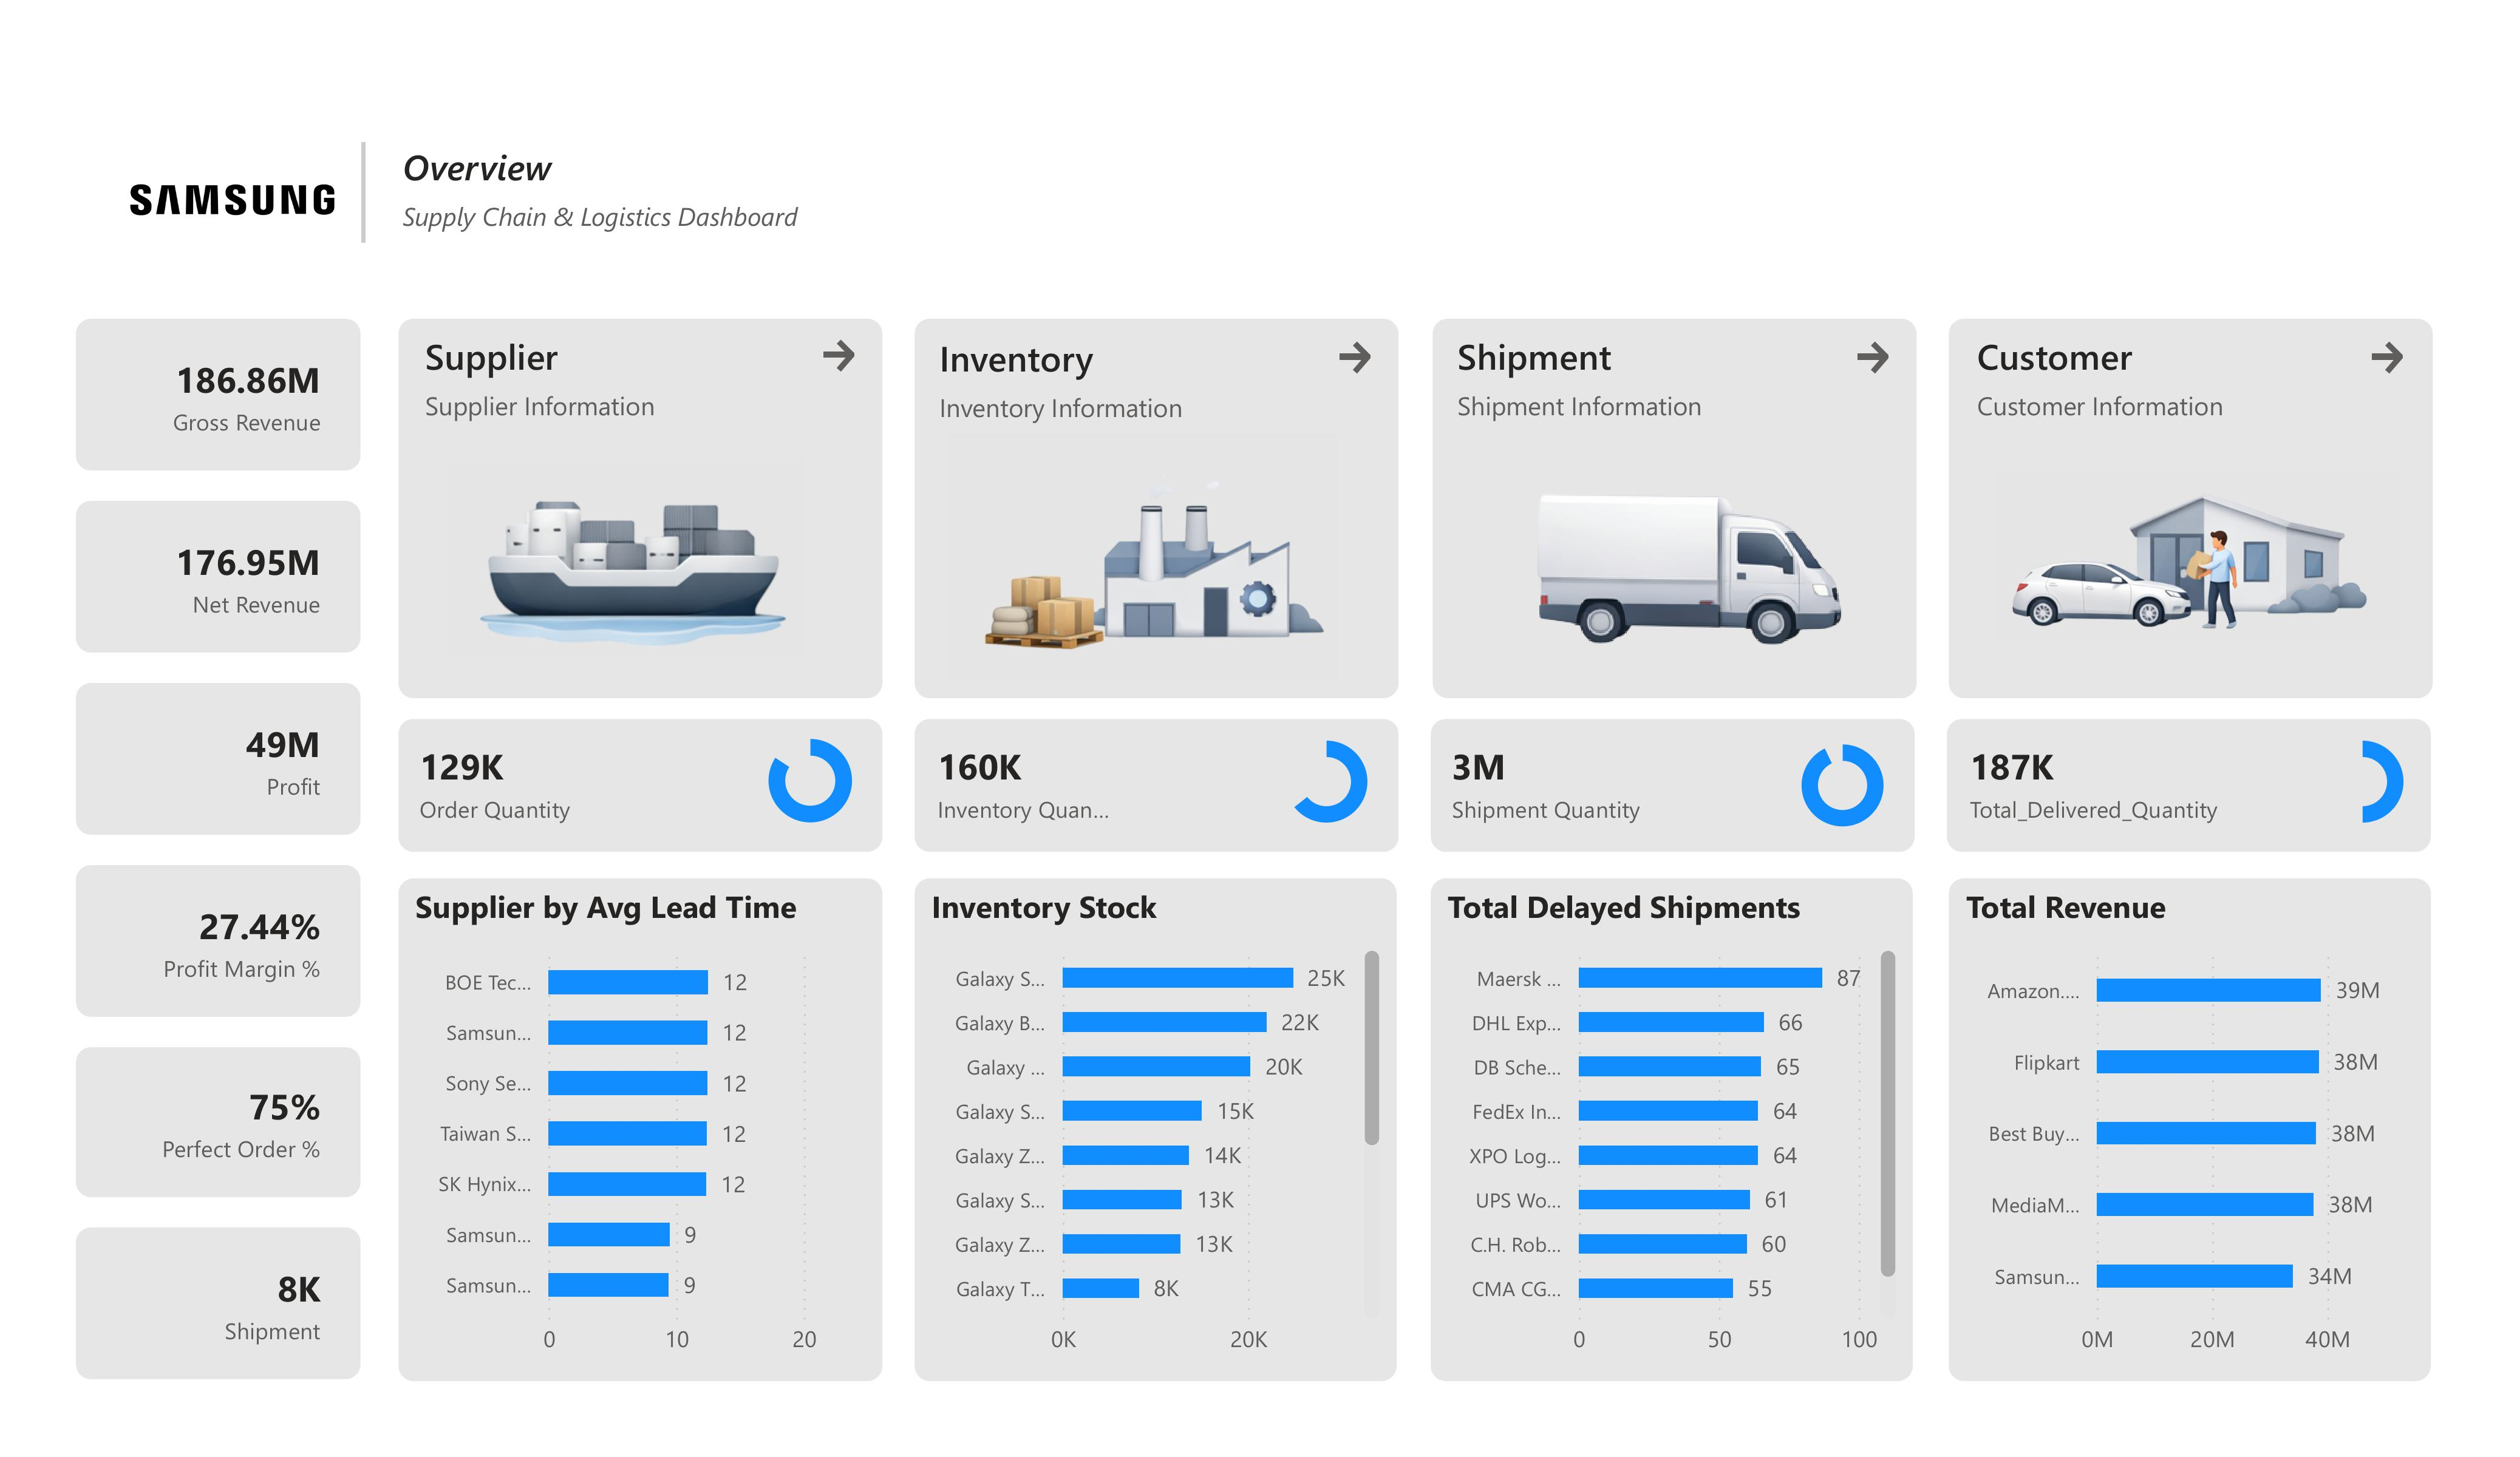

What the dashboard file says about the page in this screenshot:
{"tool":"powerbi","page":{"name":"Overview","canvas":[1280,720],"ordinal":1},"visuals":[{"type":"shape","box":[185.9,143.6,255,200],"z":0},{"type":"shape","box":[458.3,143.6,255,200],"z":1000},{"type":"shape","box":[730.7,143.6,255,200],"z":2000},{"type":"shape","box":[1003.1,143.6,255,200],"z":3000},{"type":"image","box":[211.2,175.2,188.9,187.8],"z":4000},{"type":"image","box":[474.8,158.5,206.7,221.1],"z":5000},{"type":"image","box":[771.4,175.7,184.4,186.7],"z":6000},{"type":"image","box":[1028.1,199.1,213.3,140],"z":7000},{"type":"actionButton","box":[404.8,151.2,30,25],"z":8000},{"type":"actionButton","box":[677.3,152,30,25],"z":9000},{"type":"actionButton","box":[949.9,152.1,30,25],"z":10000},{"type":"actionButton","box":[1221.3,152.1,30,25],"z":11000},{"type":"textbox","title":"Supplier","box":[195.4,151.4,188.7,52.5],"z":12000},{"type":"textbox","title":"Inventory","box":[466.1,152,188.3,52.5],"z":13000},{"type":"textbox","title":"Shipment","box":[738.6,151.1,188.3,52.5],"z":14000},{"type":"textbox","title":"Customer","box":[1012.8,151.4,188.7,52.5],"z":15000},{"type":"textbox","title":"Overview","box":[183.3,51,228.6,52.5],"z":16000},{"type":"shape","box":[152.2,51,31.1,52.5],"z":17000},{"type":"image","box":[35.5,51,120,60],"z":18000},{"type":"cardVisual","fields":{"Data":["MeasuresTable.Total_Revenue"]},"box":[15.7,239.9,150,80],"z":19000},{"type":"cardVisual","fields":{"Data":["Sum(fact_sales.profit)"]},"box":[15.7,335.9,150,80],"z":20000},{"type":"cardVisual","fields":{"Data":["MeasuresTable.Profit Margin %"]},"box":[15.8,431.9,149.8,79.8],"z":21000},{"type":"cardVisual","fields":{"Data":["MeasuresTable.Perfect Order %"]},"box":[15.8,527.7,149.8,79.8],"z":22000},{"type":"cardVisual","fields":{"Data":["MeasuresTable.Total Shipment"]},"box":[15.8,623.5,149.8,79.8],"z":23000},{"type":"cardVisual","fields":{"Data":["Sum(fact_sales.gross_revenue)"]},"box":[15.9,143.9,150,80],"z":24000},{"type":"shape","box":[185.9,354.8,255,70],"z":25000},{"type":"cardVisual","fields":{"Data":["MeasuresTable.Order_Quantity"]},"box":[168,347.7,150,80],"z":26000},{"type":"shape","box":[458.4,354.8,255,70],"z":27000},{"type":"cardVisual","fields":{"Data":["MeasuresTable.Inventory Value"]},"box":[441,347.7,150,80],"z":28000},{"type":"shape","box":[730,354.8,255,70],"z":29000},{"type":"cardVisual","fields":{"Data":["MeasuresTable.Total_Shipment_Quantity"]},"box":[712,347.7,211.5,80],"z":30000},{"type":"shape","box":[1001.9,354.8,255,70],"z":31000},{"type":"cardVisual","fields":{"Data":["MeasuresTable.Total_Delivered_Quantity"]},"box":[984.5,347.7,211,80],"z":32000},{"type":"barChart","title":"Supplier by Avg Lead Time","fields":{"Y":["MeasuresTable.Avg Lead Time"],"Category":["dim_supplier.supplier_name"]},"box":[186.3,439.1,255,265],"z":33000},{"type":"barChart","title":"Inventory Stock","fields":{"Y":["MeasuresTable.Inventory Value"],"Category":["dim_product.product_name"]},"box":[458.3,439.1,254,265],"z":34000},{"type":"barChart","title":"Total Delayed Shipments","fields":{"Y":["MeasuresTable.Total_Detaly"],"Category":["fact_shipment.carrier"]},"box":[730.3,439.1,254,265],"z":35000},{"type":"barChart","title":"Total Revenue","fields":{"Y":["Sum(fact_sales.gross_revenue)"],"Category":["dim_customer.customer_name"]},"box":[1003.3,439.1,254,265],"z":36000},{"type":"donutChart","fields":{"Y":["MeasuresTable.Order_Quantity","MeasuresTable.Defect_rate"]},"box":[355.3,355.1,96,65],"z":37000},{"type":"donutChart","fields":{"Y":["MeasuresTable.Inventory Quantity","MeasuresTable.safety_Stock"]},"box":[627.3,356.1,96,64],"z":38000},{"type":"donutChart","fields":{"Y":["MeasuresTable.Total Shipment","MeasuresTable.Total_Delay"]},"box":[899.3,358.1,96,64],"z":39000},{"type":"donutChart","fields":{"Y":["MeasuresTable.Total_Delivered_Quantity","MeasuresTable.Total_QTY_Delay"]},"box":[1173.3,356.1,96,64],"z":40000}]}

Visuals, with their boxes on the page's 1280x720 design canvas (x1, y1, x2, y2). These are canvas units, not pixel positions in the 2520x1457 screenshot, which may show the page scaled, cropped or inside an application window:
shape: BBox(186, 144, 441, 344)
shape: BBox(458, 144, 713, 344)
shape: BBox(731, 144, 986, 344)
shape: BBox(1003, 144, 1258, 344)
image: BBox(211, 175, 400, 363)
image: BBox(475, 158, 682, 380)
image: BBox(771, 176, 956, 362)
image: BBox(1028, 199, 1241, 339)
actionButton: BBox(405, 151, 435, 176)
actionButton: BBox(677, 152, 707, 177)
actionButton: BBox(950, 152, 980, 177)
actionButton: BBox(1221, 152, 1251, 177)
"Supplier" textbox: BBox(195, 151, 384, 204)
"Inventory" textbox: BBox(466, 152, 654, 204)
"Shipment" textbox: BBox(739, 151, 927, 204)
"Customer" textbox: BBox(1013, 151, 1202, 204)
"Overview" textbox: BBox(183, 51, 412, 104)
shape: BBox(152, 51, 183, 104)
image: BBox(36, 51, 156, 111)
cardVisual - MeasuresTable.Total_Revenue: BBox(16, 240, 166, 320)
cardVisual - Sum(fact_sales.profit): BBox(16, 336, 166, 416)
cardVisual - MeasuresTable.Profit Margin %: BBox(16, 432, 166, 512)
cardVisual - MeasuresTable.Perfect Order %: BBox(16, 528, 166, 608)
cardVisual - MeasuresTable.Total Shipment: BBox(16, 624, 166, 703)
cardVisual - Sum(fact_sales.gross_revenue): BBox(16, 144, 166, 224)
shape: BBox(186, 355, 441, 425)
cardVisual - MeasuresTable.Order_Quantity: BBox(168, 348, 318, 428)
shape: BBox(458, 355, 713, 425)
cardVisual - MeasuresTable.Inventory Value: BBox(441, 348, 591, 428)
shape: BBox(730, 355, 985, 425)
cardVisual - MeasuresTable.Total_Shipment_Quantity: BBox(712, 348, 924, 428)
shape: BBox(1002, 355, 1257, 425)
cardVisual - MeasuresTable.Total_Delivered_Quantity: BBox(984, 348, 1196, 428)
"Supplier by Avg Lead Time" barChart: BBox(186, 439, 441, 704)
"Inventory Stock" barChart: BBox(458, 439, 712, 704)
"Total Delayed Shipments" barChart: BBox(730, 439, 984, 704)
"Total Revenue" barChart: BBox(1003, 439, 1257, 704)
donutChart - MeasuresTable.Order_Quantity x MeasuresTable.Defect_rate: BBox(355, 355, 451, 420)
donutChart - MeasuresTable.Inventory Quantity x MeasuresTable.safety_Stock: BBox(627, 356, 723, 420)
donutChart - MeasuresTable.Total Shipment x MeasuresTable.Total_Delay: BBox(899, 358, 995, 422)
donutChart - MeasuresTable.Total_Delivered_Quantity x MeasuresTable.Total_QTY_Delay: BBox(1173, 356, 1269, 420)
